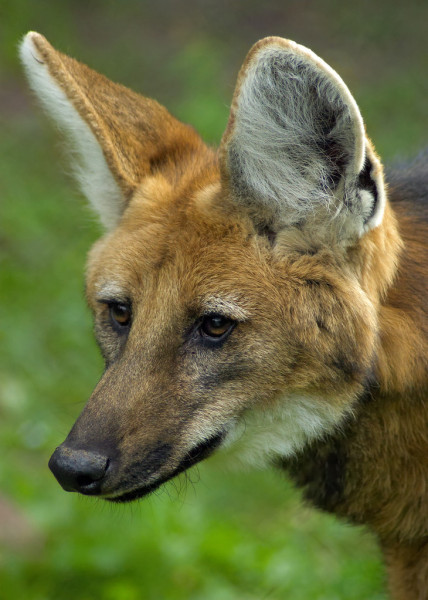LoboGuara: (16, 20, 416, 573)
